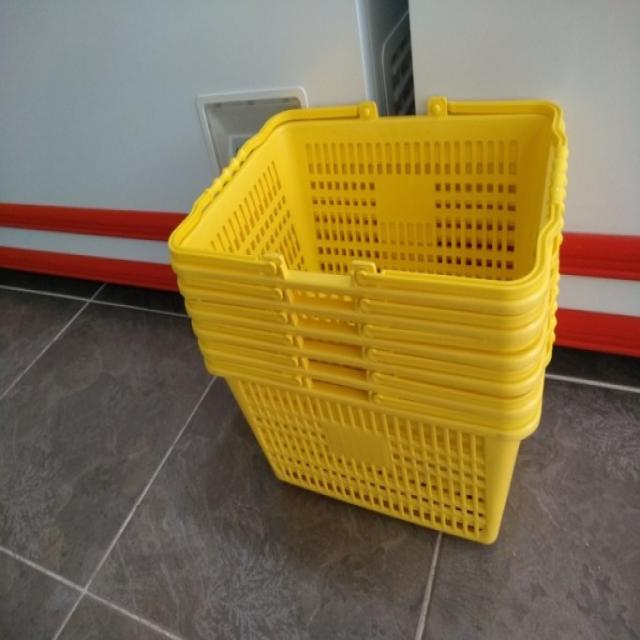basket: (149, 73, 573, 548)
